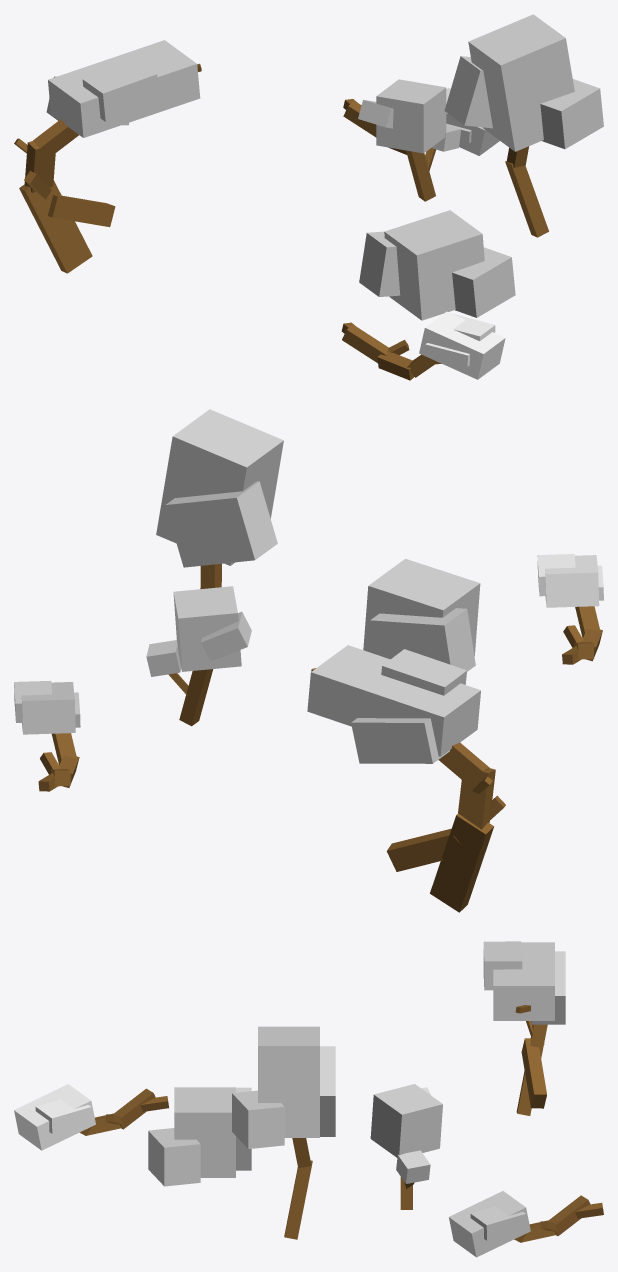
The model's file is p_Greenery.fbx.
The picture shows the model from 3 angles, top to bottom: view 1: azimuth 30°, elevation 25°; view 2: azimuth 150°, elevation 25°; view 3: azimuth 270°, elevation 25°; orthographic projection. The views are drawn at different scales.
Parts seen in each view (by area): view 1: BushLeaves_1, BushLeaves_4, BushLeaves_2, BushLeaves_3, BushLeaves__2__2, BushLeaves__2__4, BushLeaves__2__1, BushLeaves_5, Stick_2, BushLeaves__1__1, BushLeaves__1__4, Stick__5__1 (+10 smaller); view 2: BushLeaves_2, BushLeaves_1, BushLeaves__1__1, BushLeaves_4, BushLeaves__1__4, BushLeaves_3, BushLeaves__1__2, Stick_2, BushLeaves_5, BushLeaves, BushLeaves__2__2, Stick__5__1 (+7 smaller); view 3: BushLeaves_1, BushLeaves_4, BushLeaves_3, BushLeaves_2, BushLeaves__2__4, BushLeaves__2__1, BushLeaves_5, BushLeaves, BushLeaves__1__1, BushLeaves__2__2, BushLeaves__2__5, BushLeaves__2_ (+9 smaller).
Boxes of the visible parts, x1,y1,x2,y2 form: BushLeaves_1: (468,14,574,151); BushLeaves_4: (384,210,484,320); BushLeaves_2: (48,40,200,137); BushLeaves_3: (376,79,446,153); BushLeaves__2__2: (82,60,159,121); BushLeaves__2__4: (452,247,515,317); BushLeaves__2__1: (540,79,603,149); BushLeaves_5: (419,311,505,379); Stick_2: (19,180,92,273); BushLeaves__1__1: (444,56,492,128); BushLeaves__1__4: (359,231,400,296); Stick__5__1: (48,195,115,227); BushLeaves_2: (307,645,480,756); BushLeaves_1: (156,409,283,565); BushLeaves__1__1: (165,481,277,567); BushLeaves_4: (363,558,480,656); BushLeaves__1__4: (370,608,475,671); BushLeaves_3: (173,586,241,671); BushLeaves__1__2: (351,718,449,763); Stick_2: (430,813,494,912); BushLeaves_5: (545,555,599,607); BushLeaves: (21,682,75,734); BushLeaves__2__2: (381,649,466,695); Stick__5__1: (386,828,451,871); BushLeaves_1: (258,1026,319,1137); BushLeaves_4: (174,1087,235,1177); BushLeaves_3: (370,1084,442,1157); BushLeaves_2: (493,942,554,1020); BushLeaves__2__4: (148,1128,200,1186); BushLeaves__2__1: (232,1090,284,1148); BushLeaves_5: (14,1084,95,1150); BushLeaves: (449,1191,530,1257); BushLeaves__1__1: (320,1046,335,1136); BushLeaves__2__2: (483,941,522,990); BushLeaves__2__5: (35,1099,91,1133); BushLeaves__2_: (470,1206,526,1240).
Bounding box in the file's own units: 575 × 302 × 682.
